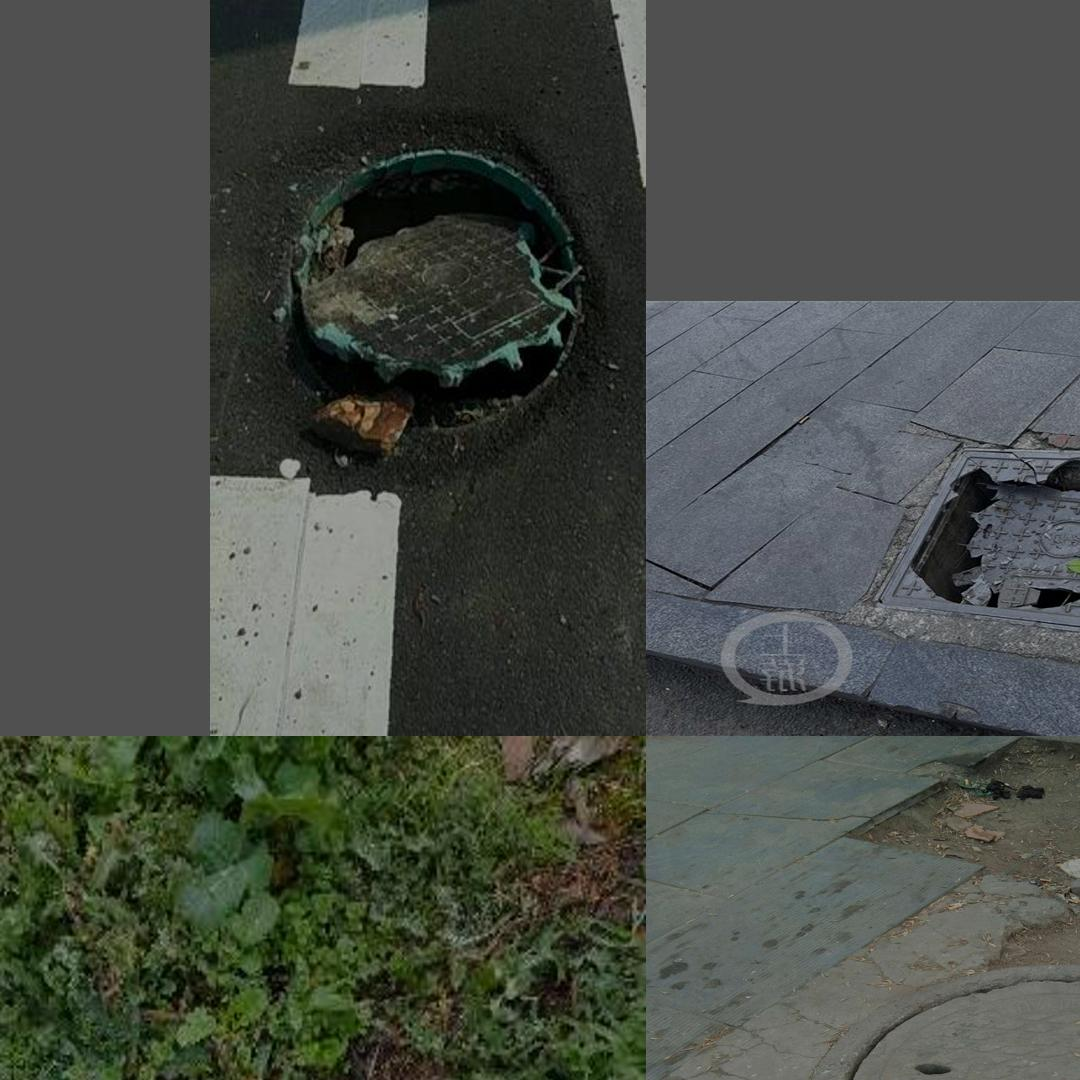broke: (225, 102, 632, 481), (828, 432, 1080, 632), (804, 964, 1080, 1080)
